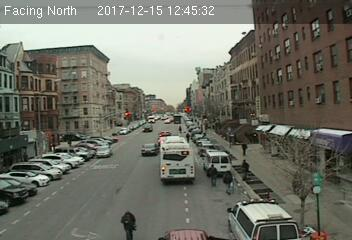bus: (158, 135, 196, 185)
car: (95, 145, 111, 157), (141, 144, 157, 156), (142, 124, 152, 132)
pedestrian: (117, 208, 142, 240), (223, 169, 235, 196), (207, 163, 218, 188), (240, 158, 251, 182), (240, 141, 248, 157)
police: (226, 199, 305, 240)
truck: (204, 151, 231, 173)
